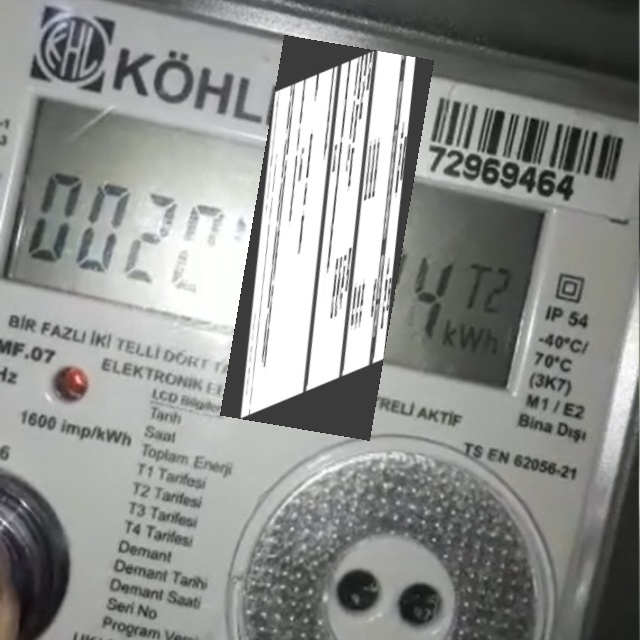electricity-bill: (219, 35, 433, 441)
